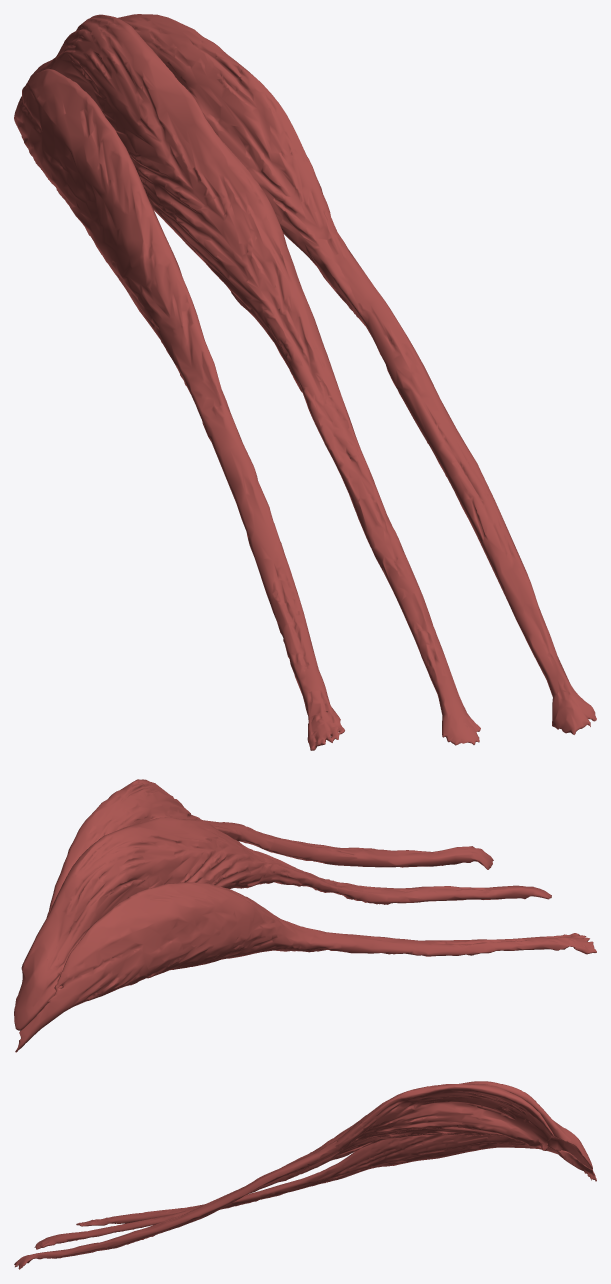
The model's file is FMA51142.glb.
The picture shows the model from 3 angles, top to bottom: view 1: azimuth 30°, elevation 25°; view 2: azimuth 150°, elevation 25°; view 3: azimuth 270°, elevation 25°; orthographic projection. The views are drawn at different scales.
Parts seen in each view (by area): view 1: FMA51142; view 2: FMA51142; view 3: FMA51142.
Part boxes in pixels (box(x1,y1,x2,y2)): FMA51142: box(14, 14, 596, 750); FMA51142: box(14, 779, 596, 1052); FMA51142: box(14, 1081, 596, 1269).
Size of the model in its own units: 0.0415 by 0.0569 by 0.1492.
